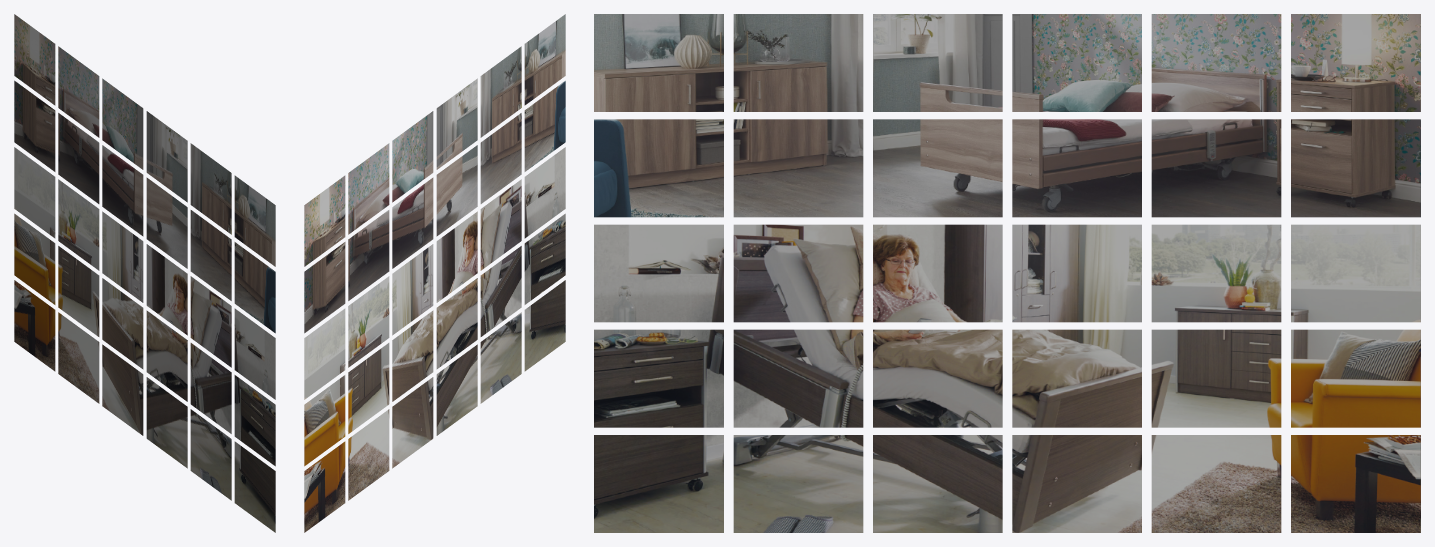
The model's file is TV_bien_1.glb.
3 renders of one model, left to right at view 1: azimuth 30°, elevation 25°; view 2: azimuth 150°, elevation 25°; view 3: azimuth 270°, elevation 25°, orthographic. The views are drawn at different scales.
Parts seen in each view (by area): view 1: 2, 1; view 2: 2, 1; view 3: 2, 1.
Part boxes in pixels (box(x1,y1,x2,y2)): 2: box(14, 147, 275, 532); 1: box(14, 14, 275, 333); 2: box(304, 147, 565, 532); 1: box(304, 14, 565, 333); 2: box(594, 224, 1420, 532); 1: box(594, 14, 1420, 217).
Bounding box in the file's own units: 1.27e-07 × 8.82 × 12.74.
2 materials, 2 textured.
